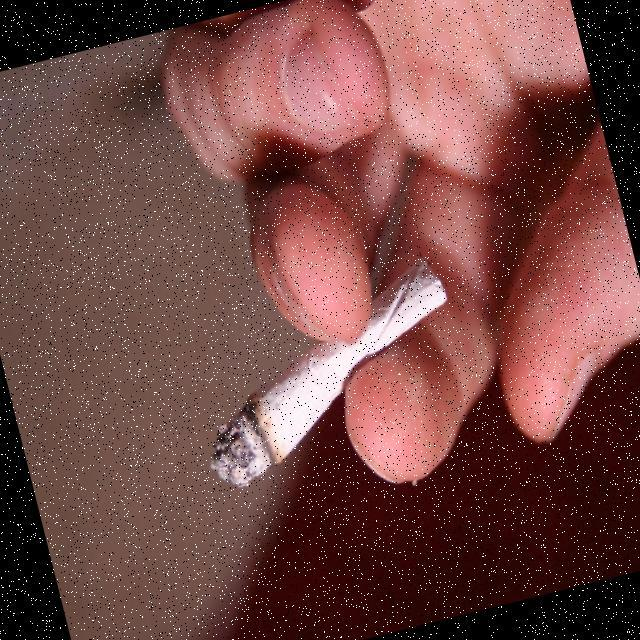cigarette: (167, 332, 356, 520)
